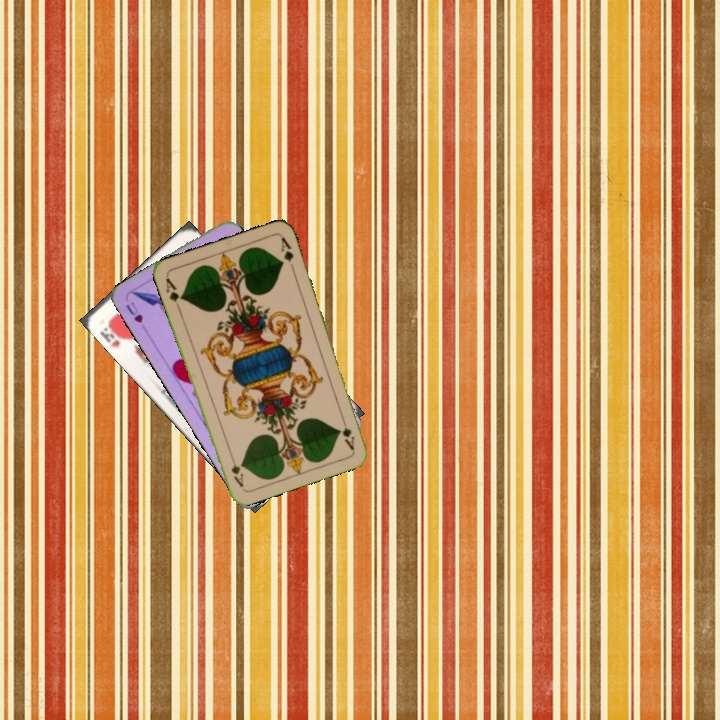GA: (161, 274, 185, 313), (338, 413, 357, 452)
HK: (95, 318, 127, 350)
HU: (122, 297, 149, 333)
